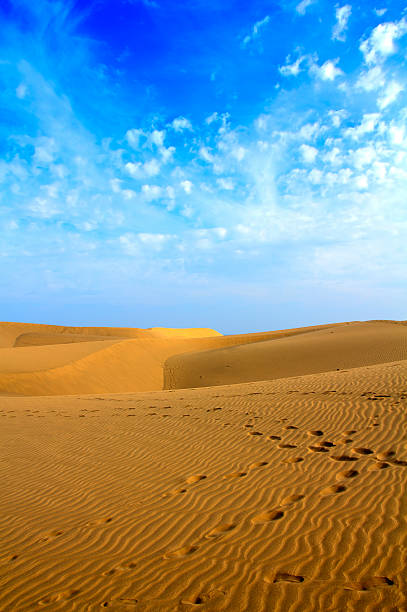human_footprint: (193, 425, 326, 496), (180, 589, 225, 607), (223, 461, 267, 478), (344, 576, 394, 590), (38, 589, 79, 606), (204, 522, 235, 539), (264, 571, 303, 583), (103, 561, 136, 575), (163, 545, 198, 558), (251, 509, 283, 523), (100, 597, 138, 608), (181, 594, 206, 607), (36, 530, 63, 542), (280, 493, 304, 505), (320, 484, 345, 495), (162, 487, 186, 497), (86, 516, 112, 525), (375, 450, 396, 461), (336, 469, 358, 479), (185, 474, 206, 484), (186, 474, 207, 484), (367, 461, 390, 470), (118, 597, 138, 607), (329, 454, 357, 461), (223, 471, 246, 478), (365, 393, 387, 400), (351, 447, 373, 454), (307, 445, 328, 452), (249, 461, 267, 469), (284, 456, 303, 463), (390, 458, 406, 466), (318, 440, 335, 447), (277, 442, 296, 448), (307, 429, 323, 436), (341, 429, 356, 436), (102, 568, 116, 575), (337, 438, 353, 444), (7, 554, 19, 562), (247, 430, 262, 436), (267, 435, 280, 440), (206, 407, 221, 411), (301, 391, 315, 395), (370, 421, 379, 427), (284, 425, 297, 429), (243, 423, 253, 428), (252, 414, 261, 419), (161, 405, 171, 409), (277, 418, 287, 422), (247, 392, 260, 395), (221, 422, 230, 426), (287, 390, 299, 393), (160, 414, 171, 417), (149, 405, 157, 409), (403, 442, 407, 449), (147, 412, 156, 415), (181, 413, 190, 416), (78, 414, 85, 417), (126, 414, 136, 416)
